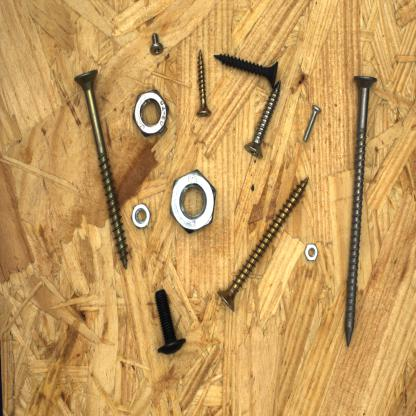screw: (214, 173, 312, 315), (72, 65, 132, 273), (342, 72, 380, 350), (241, 76, 284, 162), (212, 50, 282, 93), (149, 283, 188, 358), (188, 46, 214, 122), (298, 102, 324, 146), (144, 29, 166, 58)
